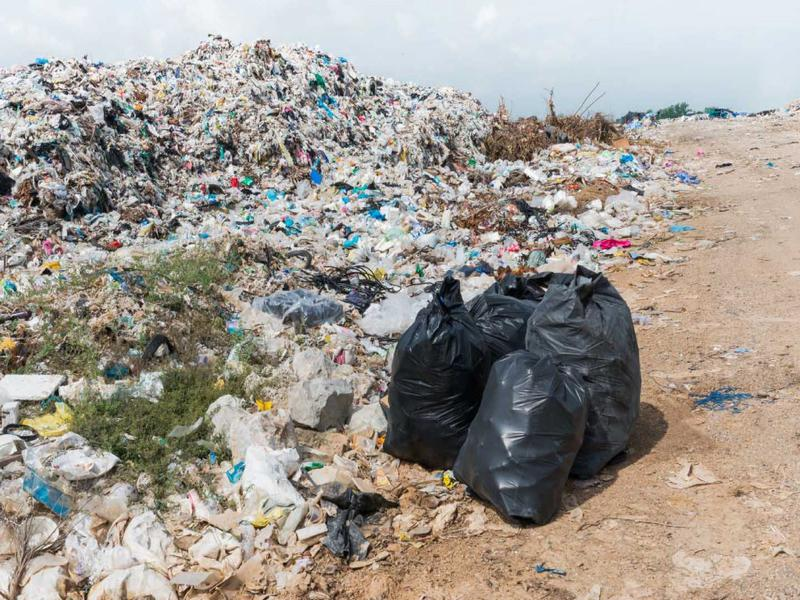plastic: (453, 341, 591, 528), (376, 260, 494, 470), (527, 265, 643, 478), (231, 437, 321, 511), (20, 426, 123, 480), (252, 285, 348, 329)
